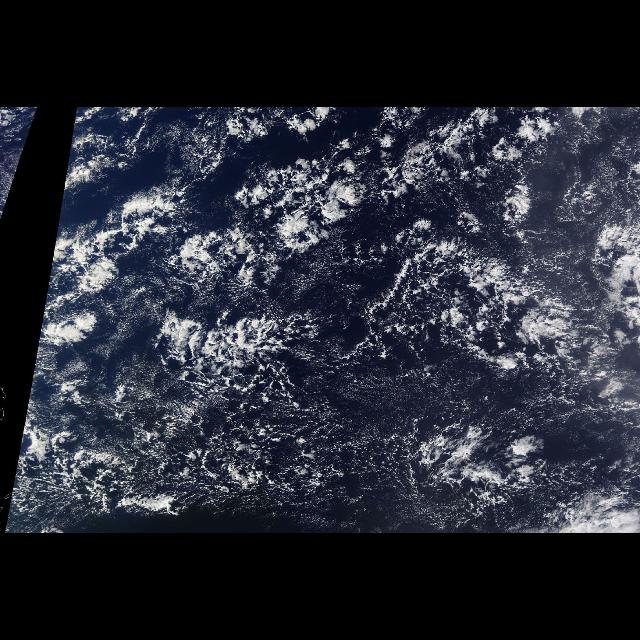Gravel: (58, 108, 612, 528)
Sugar: (266, 338, 588, 452)
